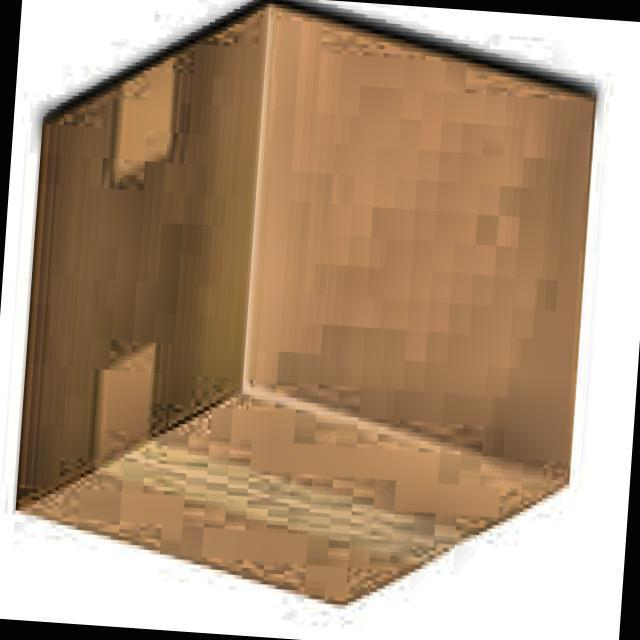cardboard: (9, 0, 603, 627)
